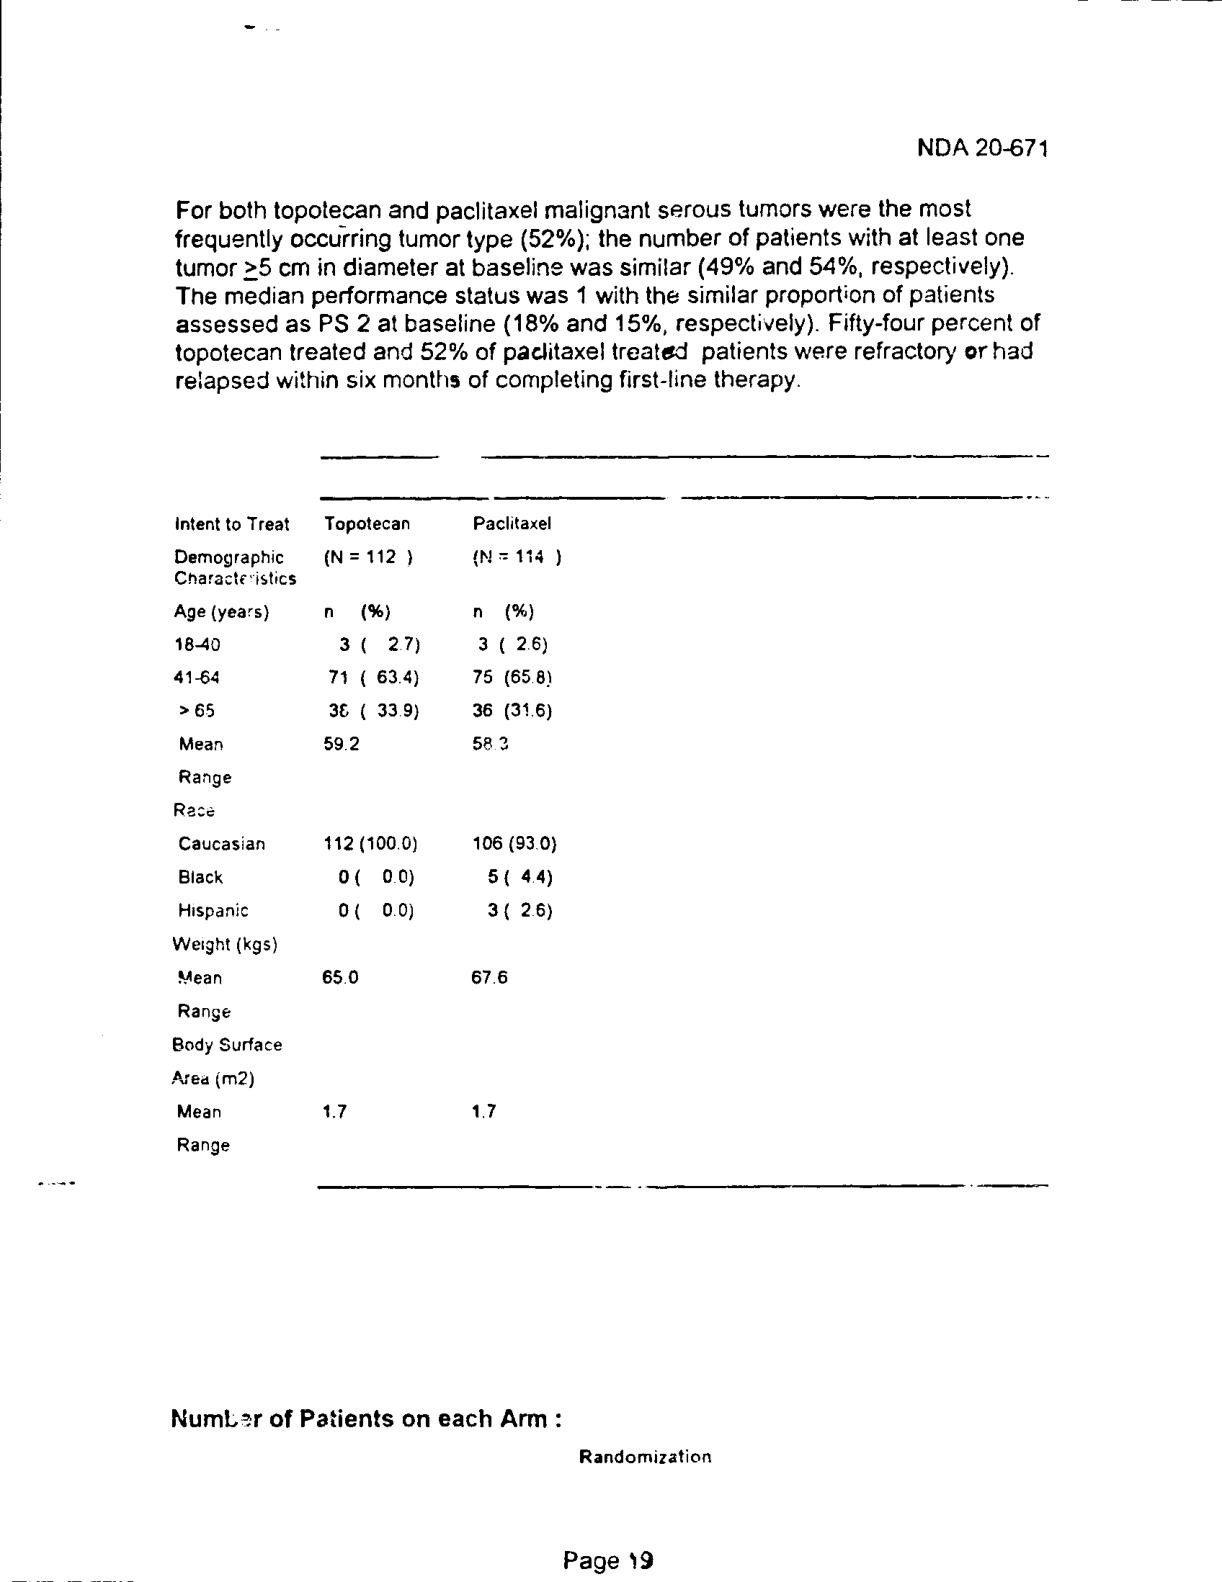partial_lined: (169, 452, 1049, 1189)
